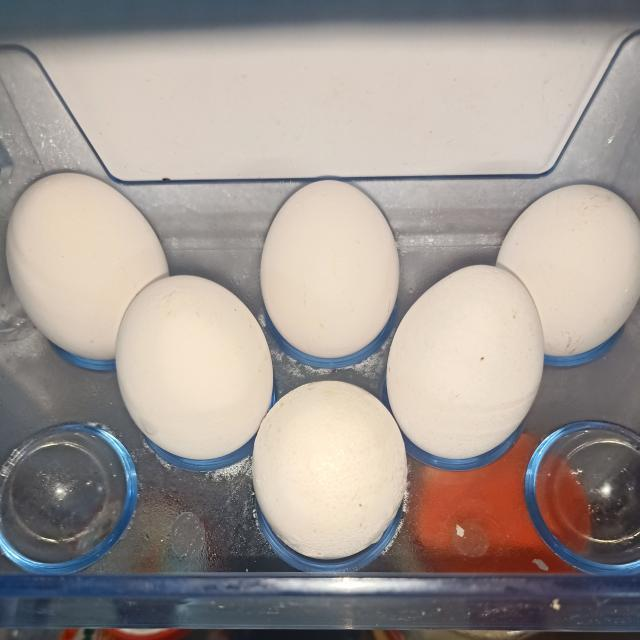Egg: (387, 265, 544, 460), (5, 173, 168, 360), (115, 275, 273, 461), (252, 381, 408, 560), (261, 180, 400, 368), (497, 184, 640, 356)
